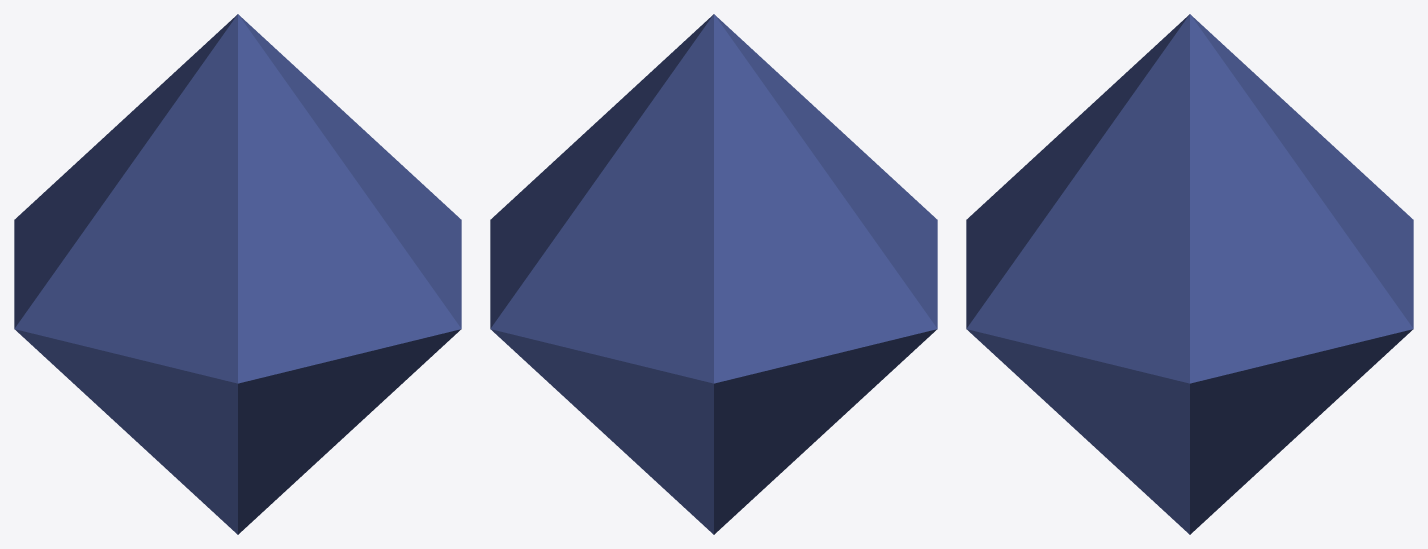
File: jewel.glb
3 views of the same model, side by side, from view 1: azimuth 30°, elevation 25°; view 2: azimuth 150°, elevation 25°; view 3: azimuth 270°, elevation 25° (orthographic).
Visible parts, largest first — view 1: jewel; view 2: jewel; view 3: jewel.
Part boxes in pixels (left/top/right/bottom): jewel: left=14, top=14, right=461, bottom=534; jewel: left=490, top=14, right=937, bottom=534; jewel: left=966, top=14, right=1413, bottom=534.
Size of the model in its own units: 0.3329 by 0.3705 by 0.2883.
